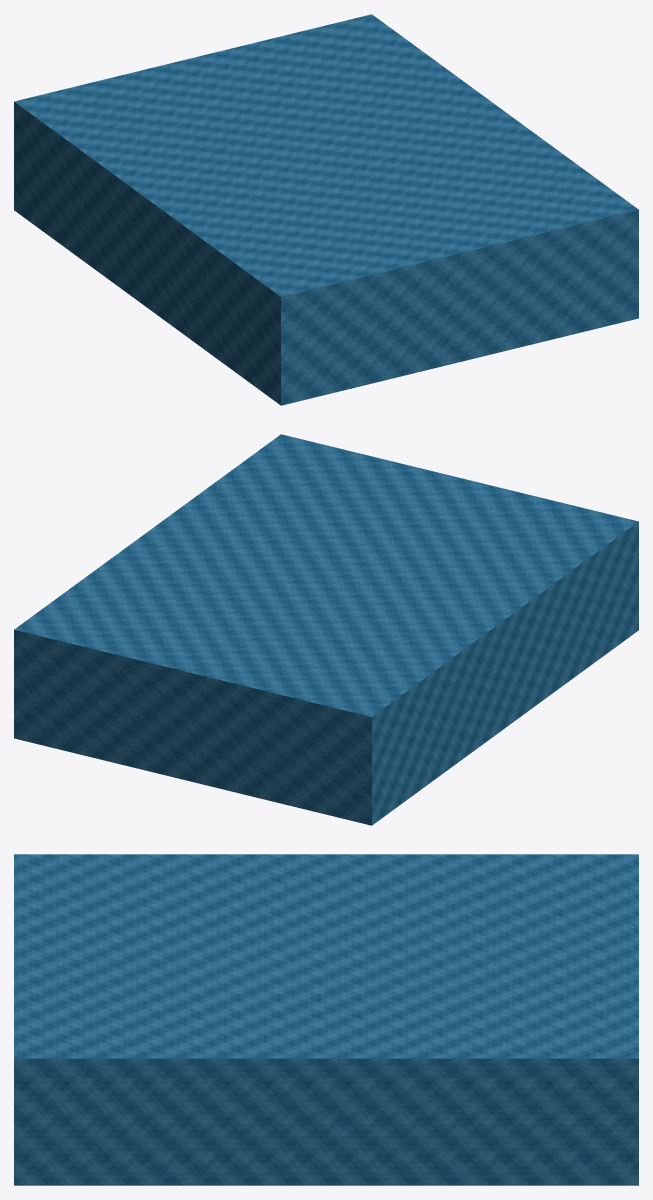
File: Glacier_Floor.fbx
3 renders of one model, top to bottom at view 1: azimuth 30°, elevation 25°; view 2: azimuth 150°, elevation 25°; view 3: azimuth 270°, elevation 25°, orthographic. The views are drawn at different scales.
Visible parts, largest first — view 1: WO_Glacier_Floor_LOD0; view 2: WO_Glacier_Floor_LOD0; view 3: WO_Glacier_Floor_LOD0.
Boxes of the visible parts, x1,y1,x2,y2 form: WO_Glacier_Floor_LOD0: (14, 14, 638, 405); WO_Glacier_Floor_LOD0: (14, 434, 638, 825); WO_Glacier_Floor_LOD0: (14, 854, 638, 1185).
Size of what is drawn, in the model's own units: 6 by 1.74 by 7.76.
